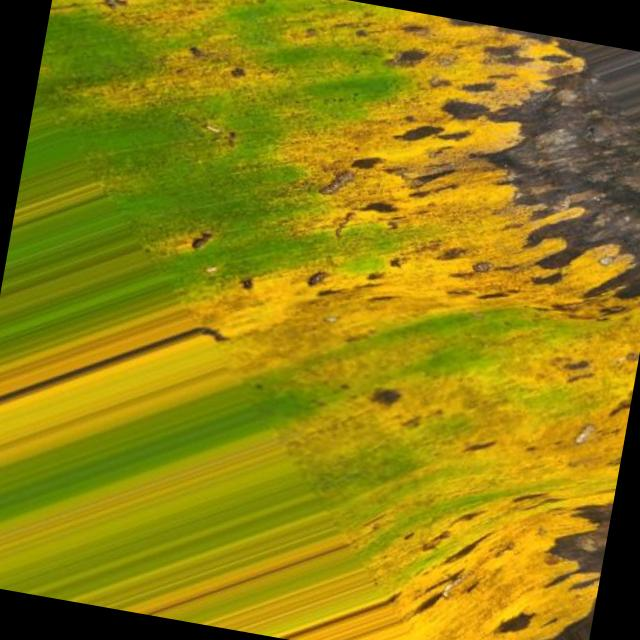Banana_Black_Sigatoka: (107, 0, 640, 333), (285, 291, 640, 640)
